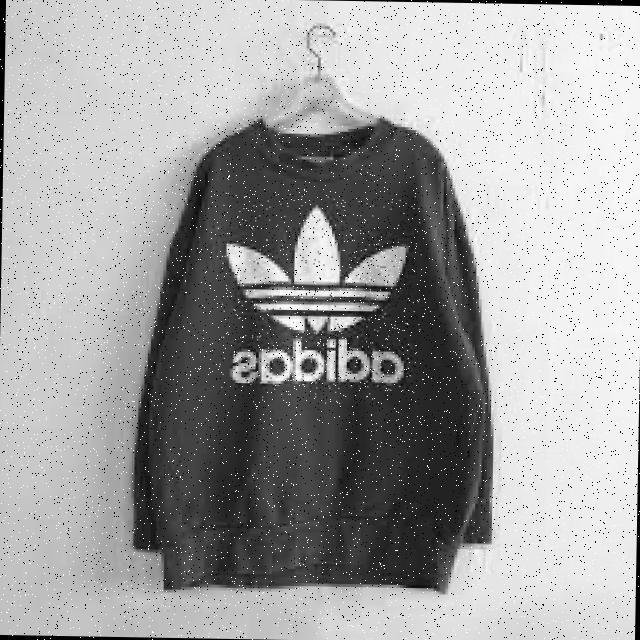Adidas: (219, 191, 422, 405)
